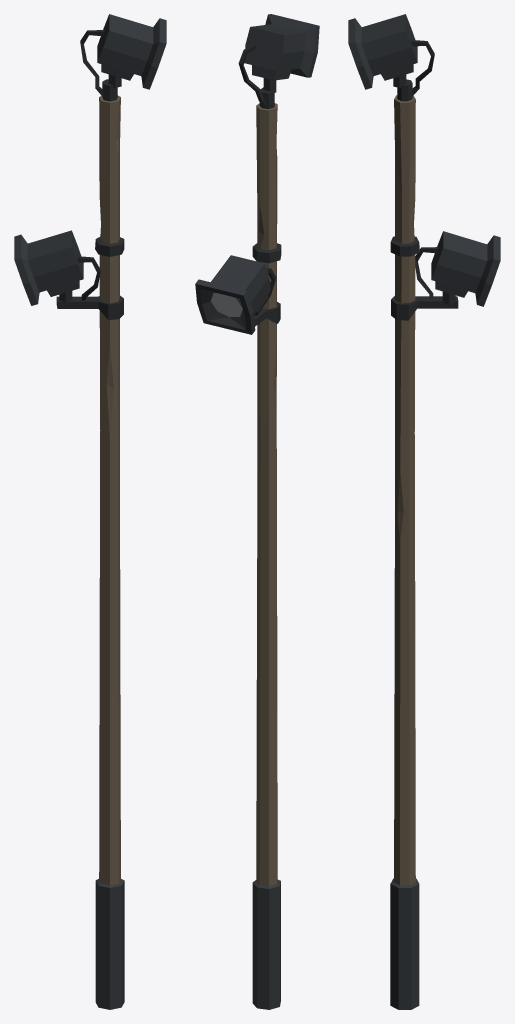
File: SM_Prop_LightPole_02.glb
The picture shows the model from 3 angles, left to right: view 1: azimuth 90°, elevation 25°; view 2: azimuth 150°, elevation 25°; view 3: azimuth 270°, elevation 25°; orthographic projection.
Parts seen in each view (by area): view 1: SM_Prop_LightPole_02; view 2: SM_Prop_LightPole_02; view 3: SM_Prop_LightPole_02.
Boxes of the visible parts, x1,y1,x2,y2 form: SM_Prop_LightPole_02: [14, 14, 166, 1009]; SM_Prop_LightPole_02: [195, 14, 319, 1009]; SM_Prop_LightPole_02: [348, 14, 500, 1009].
Size of the model in its own units: 0.5693 by 9.82 by 1.38.
Materials: 1 (1 with a texture image).
